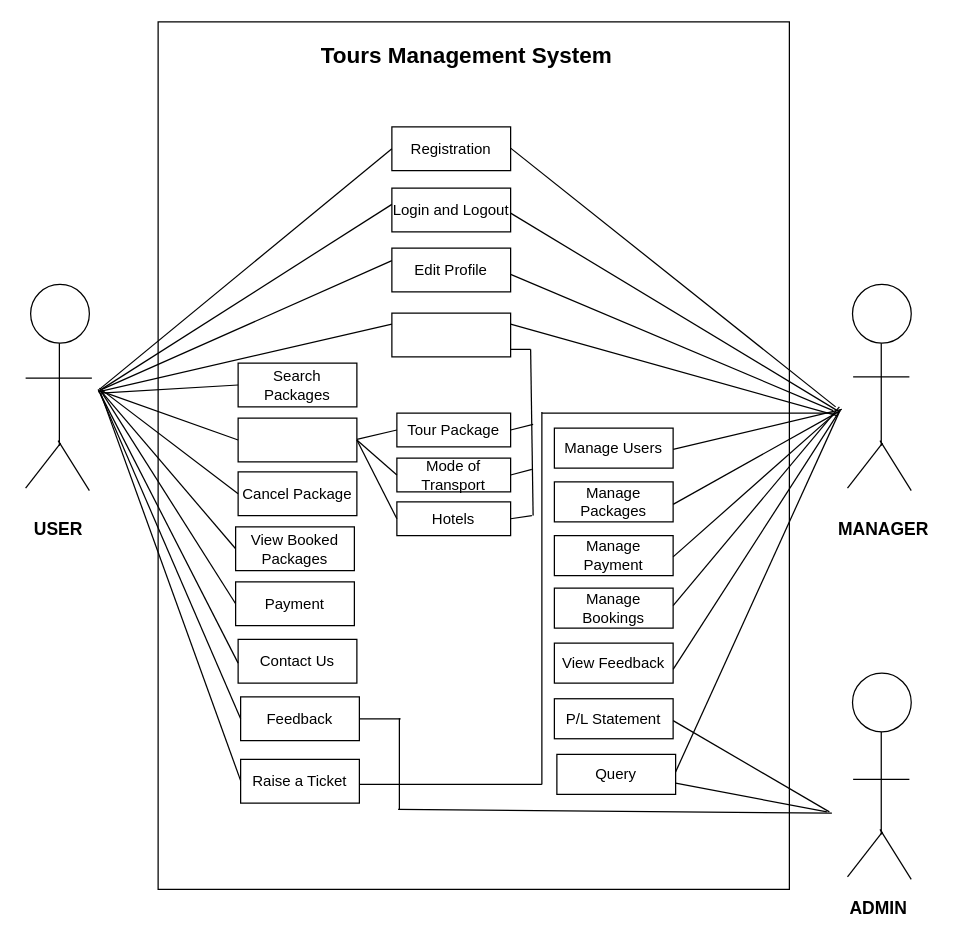
Some shapes in this 960 by 948 pixel diagram are drawn without their labels. The shapes that lost their labels are listed below. From the top down, each one's centre as x and y in pixels, then its label:
At point 451,334: "View Packages".
At point 297,439: "Book Packages".
